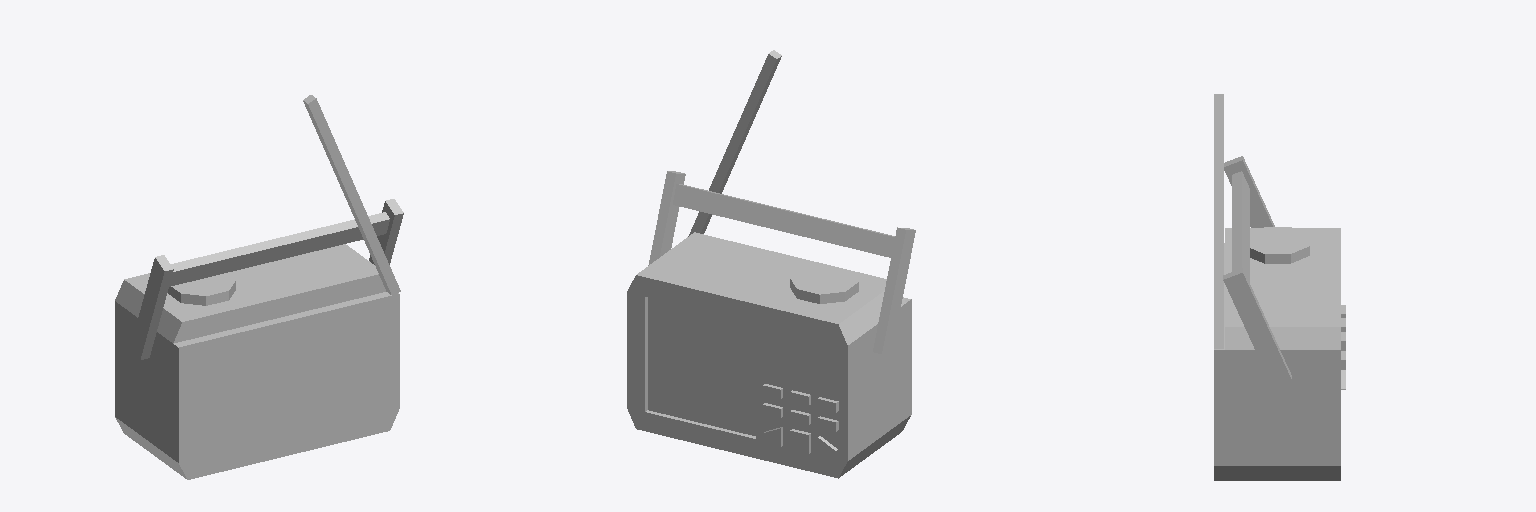
The model's file is radio_r.obj.
3 views of the same model, side by side, from view 1: azimuth 30°, elevation 25°; view 2: azimuth 150°, elevation 25°; view 3: azimuth 270°, elevation 25° (orthographic).
Parts seen in each view (by area): view 1: body, handle, antenna, arm_r, knob, arm_l; view 2: body, grate, handle, arm_r, antenna, knob, arm_l; view 3: body, arm_l, antenna, knob, handle, arm_r.
Boxes of the visible parts, <box> form: body: <box>115,244,399,479</box>; handle: <box>169,212,389,286</box>; antenna: <box>303,95,400,296</box>; arm_r: <box>131,255,173,359</box>; knob: <box>168,273,235,305</box>; arm_l: <box>369,199,403,264</box>; body: <box>627,232,911,478</box>; grate: <box>648,297,755,435</box>; handle: <box>673,184,894,257</box>; arm_r: <box>873,227,915,354</box>; antenna: <box>688,50,781,236</box>; knob: <box>790,266,858,303</box>; arm_l: <box>648,171,685,265</box>; body: <box>1214,228,1340,480</box>; arm_l: <box>1223,268,1291,386</box>; antenna: <box>1214,94,1223,348</box>; knob: <box>1250,227,1309,263</box>; handle: <box>1232,171,1249,282</box>; arm_r: <box>1224,156,1274,227</box>.
Size of the model in its own units: 0.4062 by 0.5688 by 0.1948.